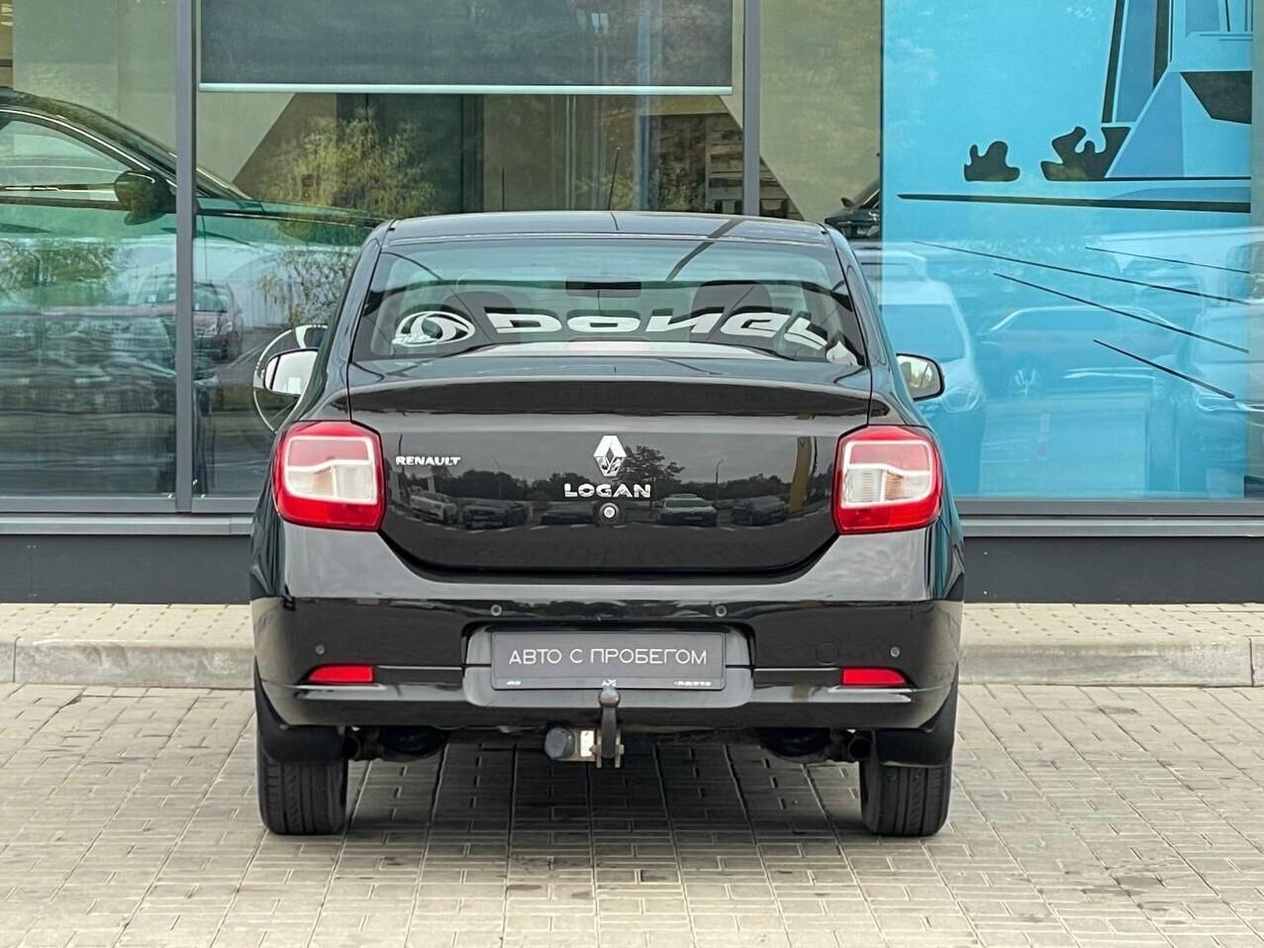Logan_2013-2018: (240, 207, 979, 842)
